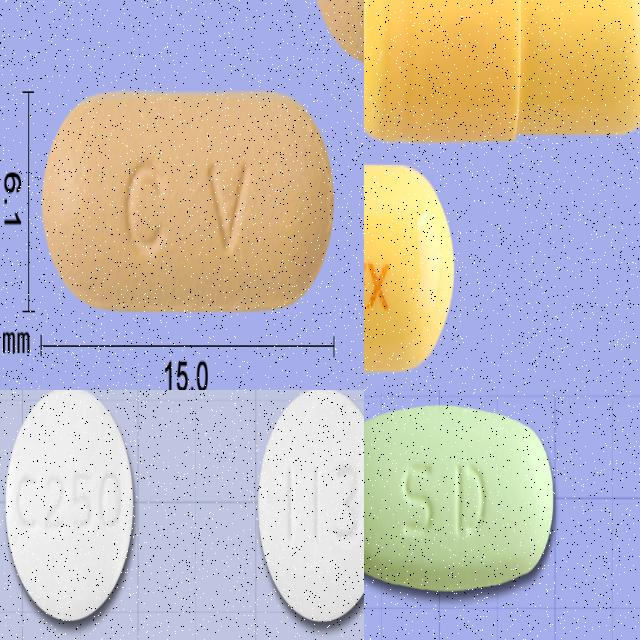Cefaxamin Cap: (364, 0, 640, 150), (364, 151, 459, 386)
Ciprofloxacin Hcl Tab- Ilyang: (5, 390, 139, 631), (253, 390, 364, 630)
Clabio: (364, 399, 558, 604)
Cravit - 500mg: (44, 90, 334, 310)
